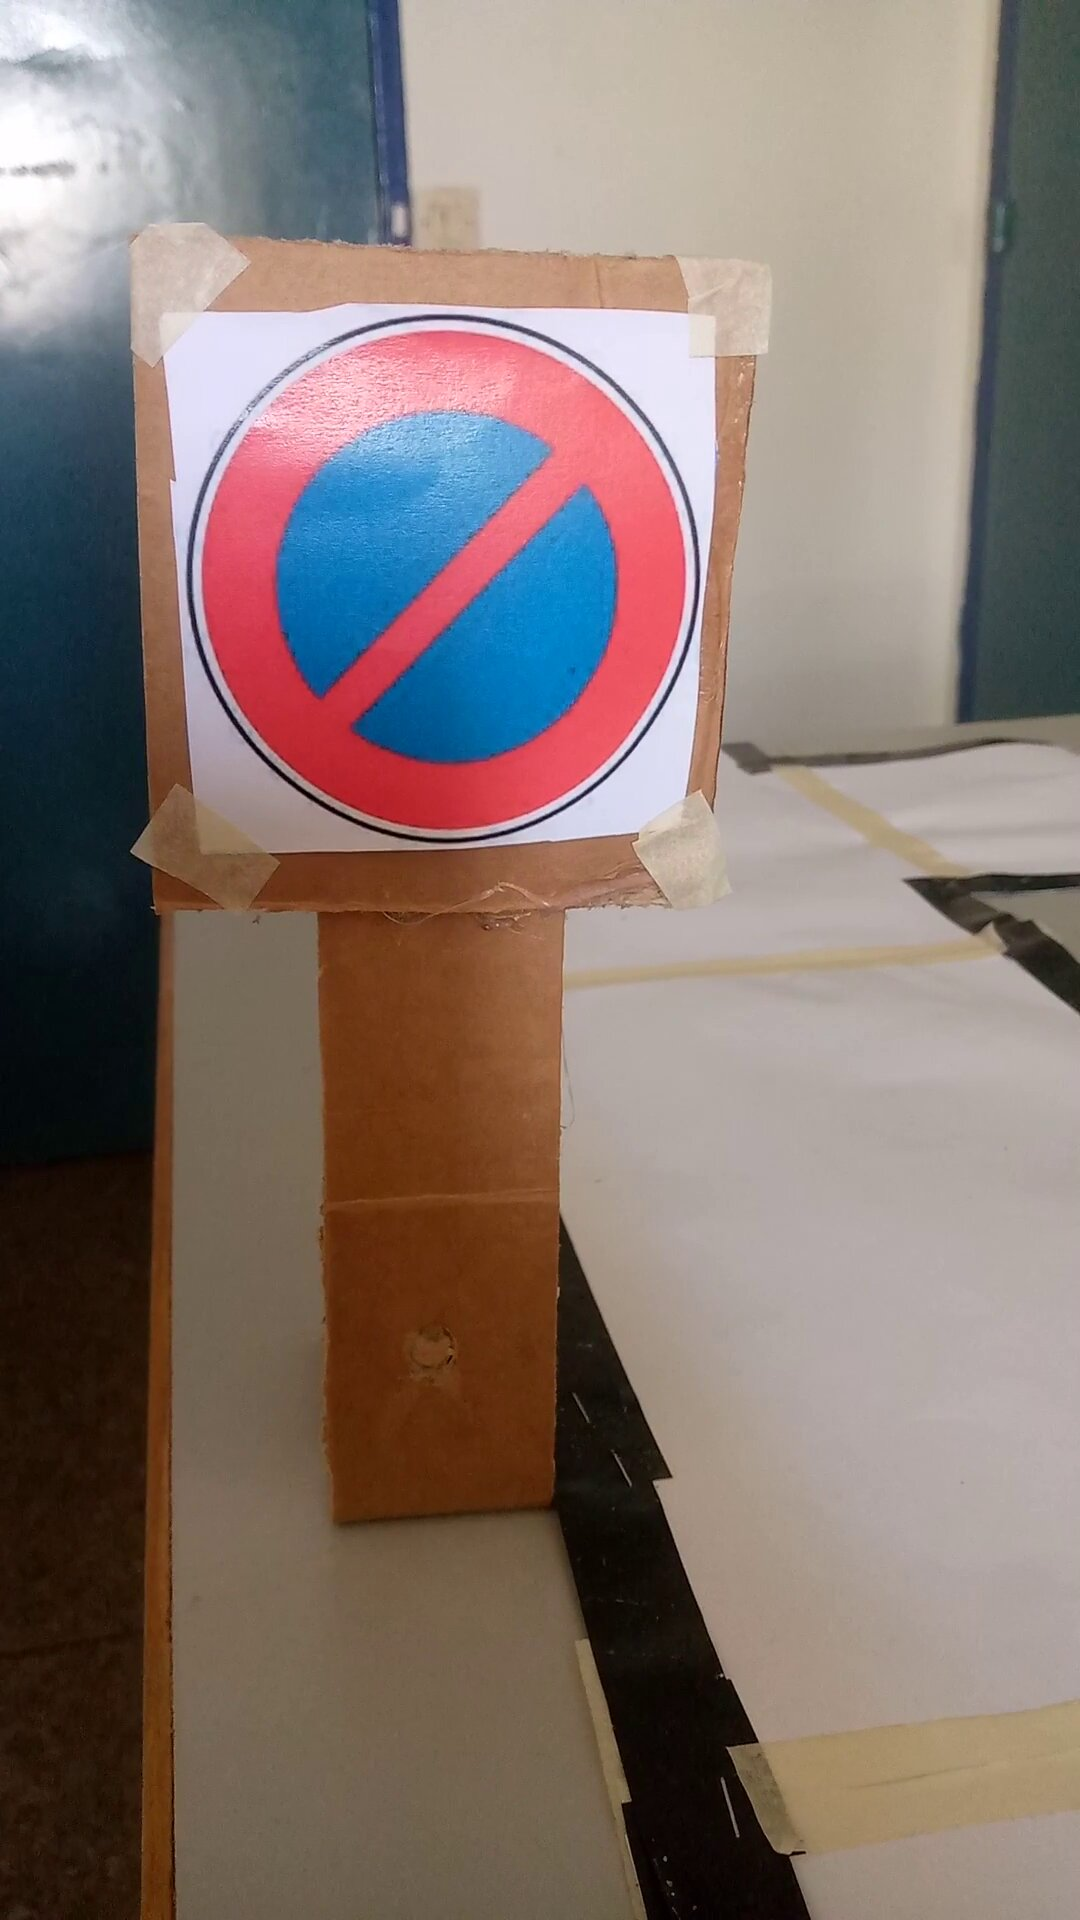panel110: (161, 306, 702, 874)
